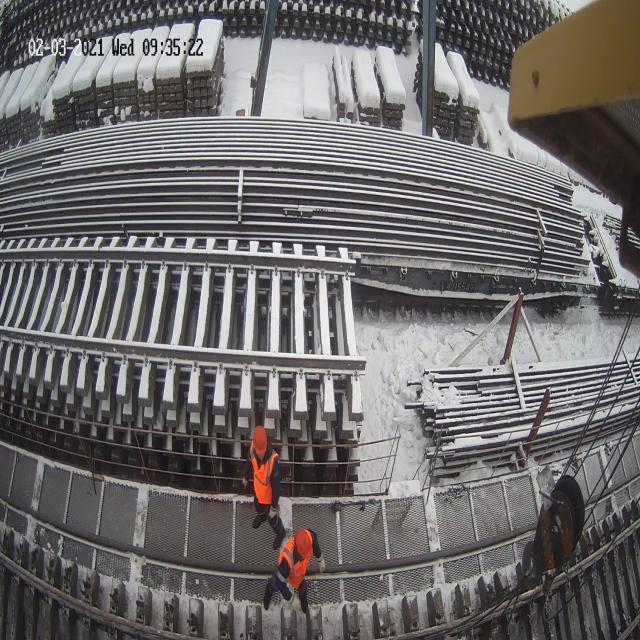Helmet: (252, 425, 267, 459)
Person: (242, 425, 286, 550), (263, 528, 325, 614)
